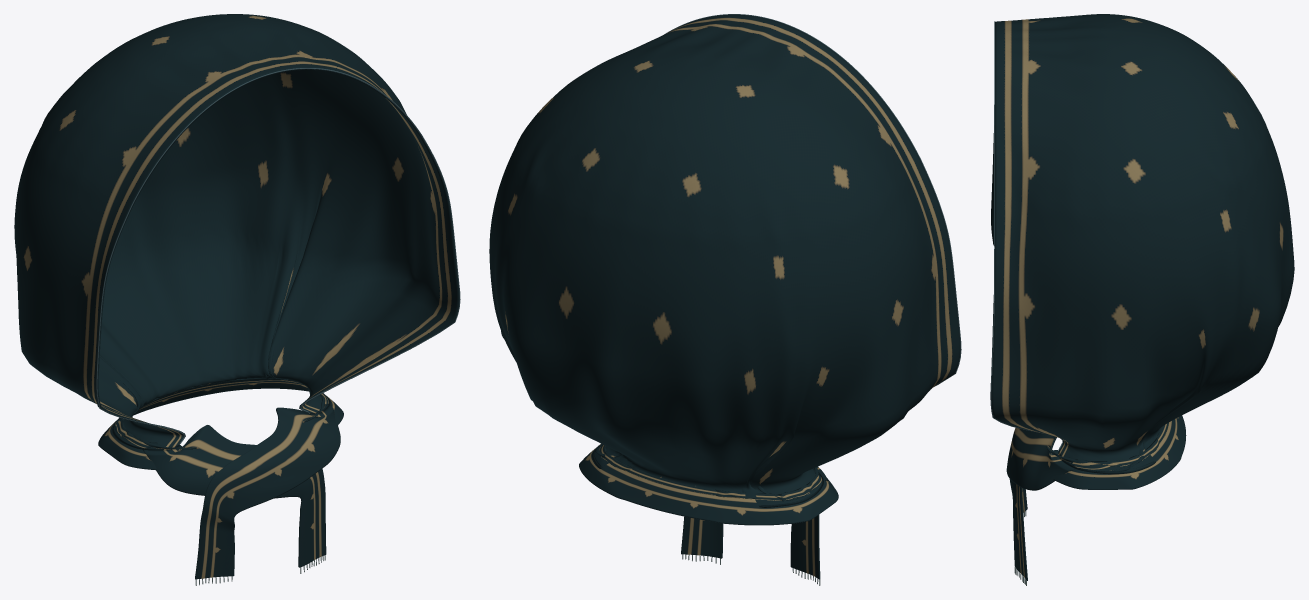
File: Masculine-tank-pashmina237-headgear.glb
3 renders of one model, left to right at view 1: azimuth 30°, elevation 25°; view 2: azimuth 150°, elevation 25°; view 3: azimuth 270°, elevation 25°, orthographic. The views are drawn at different scales.
Visible parts, largest first — view 1: 226 headgear / Headwear / continuous woven pashmina237, 226 headgear / Headwear / face edge237; view 2: 226 headgear / Headwear / continuous woven pashmina237, 226 headgear / Headwear / face edge237; view 3: 226 headgear / Headwear / continuous woven pashmina237, 226 headgear / Headwear / face edge237.
Boxes of the visible parts, x1=… form: 226 headgear / Headwear / continuous woven pashmina237: x1=14, y1=14, x2=459, y2=579; 226 headgear / Headwear / face edge237: x1=96, y1=68, x2=460, y2=443; 226 headgear / Headwear / continuous woven pashmina237: x1=489, y1=14, x2=960, y2=579; 226 headgear / Headwear / face edge237: x1=664, y1=14, x2=961, y2=387; 226 headgear / Headwear / continuous woven pashmina237: x1=991, y1=14, x2=1294, y2=580; 226 headgear / Headwear / face edge237: x1=990, y1=21, x2=1062, y2=449.
Bounding box in the file's own units: 1.03 × 1.35 × 0.7127.
3 materials, 1 textured.
